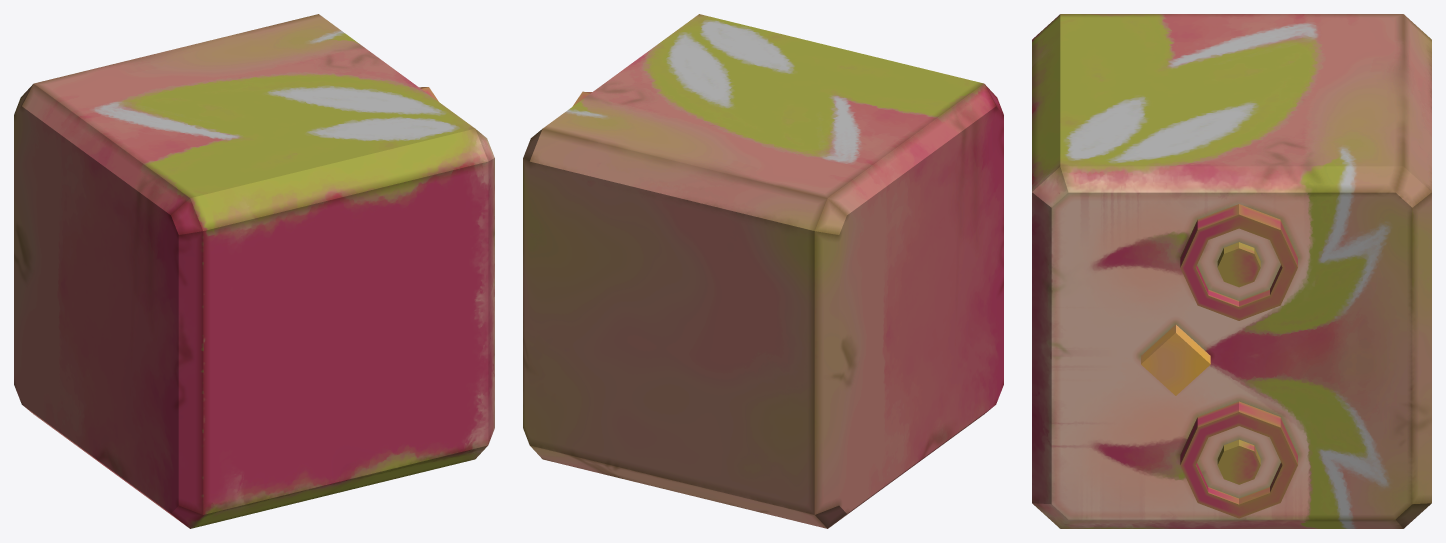
The model's file is bird_totem2_head.fbx.
3 views of the same model, side by side, from view 1: azimuth 30°, elevation 25°; view 2: azimuth 150°, elevation 25°; view 3: azimuth 270°, elevation 25° (orthographic). The views are drawn at different scales.
Parts seen in each view (by area): view 1: Cube; view 2: Cube; view 3: Cube.
Boxes of the visible parts, <box> form: Cube: <box>14,14,494,528</box>; Cube: <box>523,14,1003,528</box>; Cube: <box>1032,14,1431,528</box>.
Bounding box in the file's own units: 106 × 100 × 100.
Materials: 3 (3 with a texture image).
